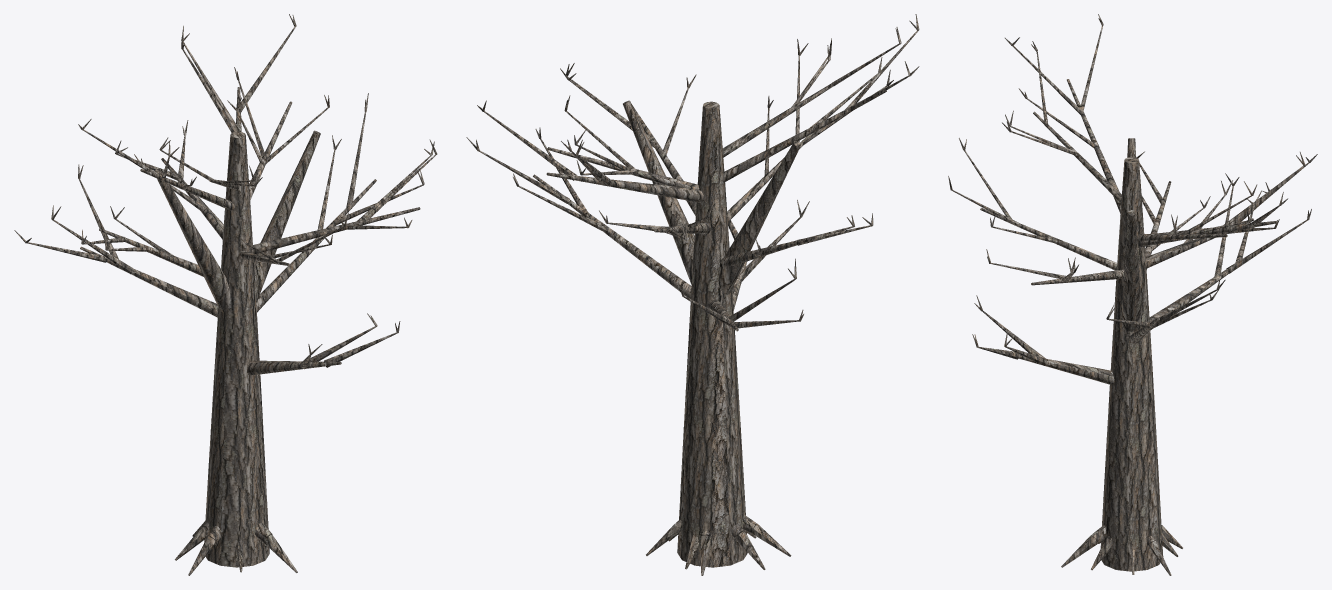
The model's file is lightning-split-v02.glb.
The picture shows the model from 3 angles, left to right: view 1: azimuth 30°, elevation 25°; view 2: azimuth 150°, elevation 25°; view 3: azimuth 270°, elevation 25°; orthographic projection. The views are drawn at different scales.
Parts seen in each view (by area): view 1: dead-tree-split; view 2: dead-tree-split; view 3: dead-tree-split.
Part boxes in pixels (<box>): dead-tree-split: <box>14,14,437,575</box>; dead-tree-split: <box>466,14,919,575</box>; dead-tree-split: <box>948,14,1317,575</box>.
Size of the model in its own units: 7.59 by 9.9 by 7.14.
Materials: 1 (1 with a texture image).
